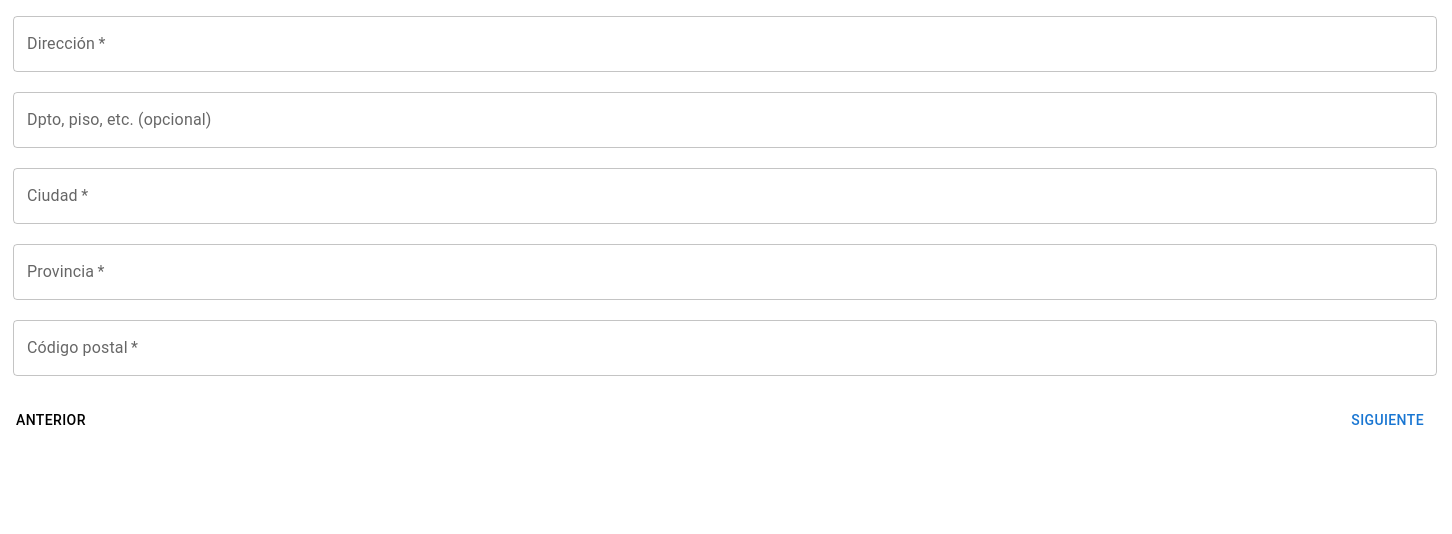
it: DirectionData.spec.tsx › when entering wrong values › should render inputs error when doesn't fill form
What coordinates should you click on to do the following:
click the button "Siguiente"
I would click on:
 (1388, 420)
Its box is left=1343, top=402, right=1432, bottom=438.
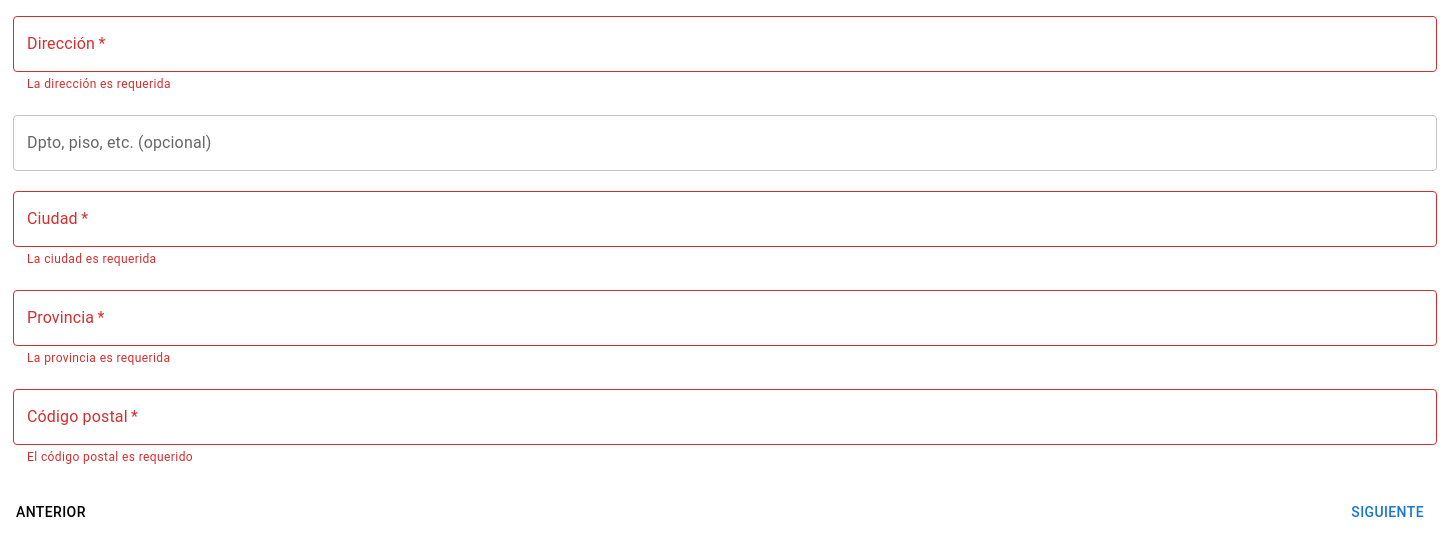
Expected: the text "La dirección es requerida" is shown, left=27, top=77, right=171, bottom=91
Expected: the text "La ciudad es requerida" is shown, left=27, top=252, right=157, bottom=266
Expected: the text "La provincia es requerida" is shown, left=27, top=351, right=170, bottom=365
